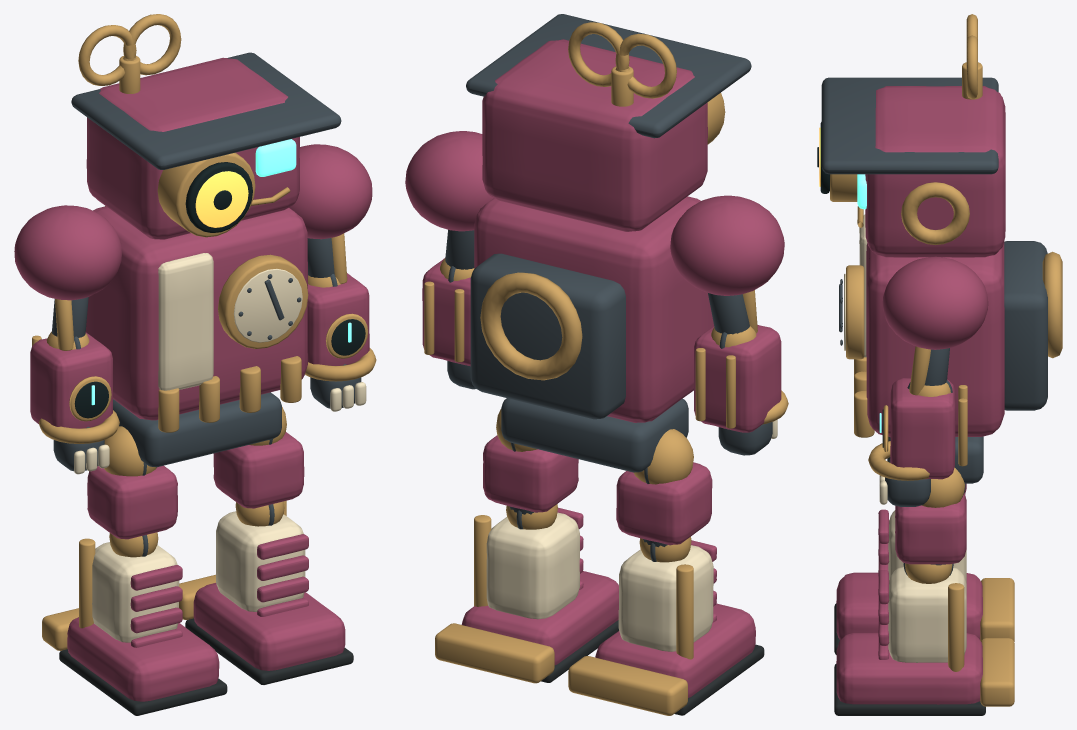
File: clockwork_gunner.t1.glb
3 renders of one model, left to right at view 1: azimuth 30°, elevation 25°; view 2: azimuth 150°, elevation 25°; view 3: azimuth 270°, elevation 25°, orthographic. The views are drawn at different scales.
Visible parts, largest first — view 1: slot_torso__clay_clockwork_wine__clay, slot_legL__clay_clockwork_wine__clay, slot_head__clay_clockwork_wine__clay, slot_legR__clay_clockwork_wine__clay, slot_head__forged_bluelead_steel__protected, slot_armL__clay_clockwork_wine__clay, slot_torso__clay_warm_ivory__clay, slot_torso__forged_bluelead_steel__protected, slot_head__worn_warm_brass__protected, slot_torso__worn_warm_brass__protected, slot_armR__clay_clockwork_wine__clay, armL_elbow__clay_clockwork_wine__clay (+23 smaller); view 2: slot_head__clay_clockwork_wine__clay, slot_torso__forged_bluelead_steel__protected, slot_torso__clay_clockwork_wine__clay, slot_legL__clay_clockwork_wine__clay, slot_legR__clay_clockwork_wine__clay, slot_legL__worn_warm_brass__protected, slot_armL__clay_clockwork_wine__clay, slot_legR__clay_warm_ivory__clay, slot_head__forged_bluelead_steel__protected, slot_legR__worn_warm_brass__protected, slot_legL__clay_warm_ivory__clay, slot_armR__clay_clockwork_wine__clay (+12 smaller); view 3: slot_head__clay_clockwork_wine__clay, slot_legR__clay_clockwork_wine__clay, slot_torso__clay_clockwork_wine__clay, slot_head__forged_bluelead_steel__protected, slot_torso__forged_bluelead_steel__protected, slot_armR__clay_clockwork_wine__clay, slot_legR__worn_warm_brass__protected, slot_legR__clay_warm_ivory__clay, armR_elbow__clay_clockwork_wine__clay, slot_head__worn_warm_brass__protected, slot_torso__worn_warm_brass__protected, slot_legL__clay_clockwork_wine__clay (+8 smaller).
Boxes of the visible parts, x1,y1,x2,y2 form: slot_torso__clay_clockwork_wine__clay: [85, 206, 307, 420]; slot_legL__clay_clockwork_wine__clay: [67, 465, 219, 701]; slot_head__clay_clockwork_wine__clay: [86, 57, 299, 239]; slot_legR__clay_clockwork_wine__clay: [193, 432, 345, 670]; slot_head__forged_bluelead_steel__protected: [71, 52, 341, 169]; slot_armL__clay_clockwork_wine__clay: [14, 205, 121, 300]; slot_torso__clay_warm_ivory__clay: [158, 253, 213, 390]; slot_torso__forged_bluelead_steel__protected: [113, 274, 301, 467]; slot_head__worn_warm_brass__protected: [78, 14, 290, 237]; slot_torso__worn_warm_brass__protected: [105, 206, 308, 432]; slot_armR__clay_clockwork_wine__clay: [289, 144, 372, 239]; armL_elbow__clay_clockwork_wine__clay: [30, 332, 112, 428]; slot_head__clay_clockwork_wine__clay: [482, 39, 707, 231]; slot_torso__forged_bluelead_steel__protected: [470, 253, 688, 472]; slot_torso__clay_clockwork_wine__clay: [474, 196, 713, 422]; slot_legL__clay_clockwork_wine__clay: [595, 462, 755, 697]; slot_legR__clay_clockwork_wine__clay: [461, 435, 618, 665]; slot_legL__worn_warm_brass__protected: [568, 429, 693, 715]; slot_armL__clay_clockwork_wine__clay: [670, 195, 784, 295]; slot_legR__clay_warm_ivory__clay: [486, 512, 579, 619]; slot_head__forged_bluelead_steel__protected: [466, 14, 751, 138]; slot_legR__worn_warm_brass__protected: [435, 409, 557, 683]; slot_legL__clay_warm_ivory__clay: [618, 545, 713, 651]; slot_armR__clay_clockwork_wine__clay: [405, 131, 493, 231]; slot_head__clay_clockwork_wine__clay: [865, 86, 1005, 257]; slot_legR__clay_clockwork_wine__clay: [836, 493, 982, 704]; slot_torso__clay_clockwork_wine__clay: [866, 242, 1004, 436]; slot_head__forged_bluelead_steel__protected: [821, 77, 998, 174]; slot_torso__forged_bluelead_steel__protected: [839, 241, 1047, 483]; slot_armR__clay_clockwork_wine__clay: [882, 256, 988, 349]; slot_legR__worn_warm_brass__protected: [905, 467, 1014, 706]; slot_legR__clay_warm_ivory__clay: [888, 566, 966, 662]; armR_elbow__clay_clockwork_wine__clay: [890, 378, 955, 479]; slot_head__worn_warm_brass__protected: [830, 14, 982, 244]; slot_torso__worn_warm_brass__protected: [846, 251, 1062, 437]; slot_legL__clay_clockwork_wine__clay: [836, 483, 982, 640].
Size of the model in its own units: 1.34 by 2.34 by 0.8429.
